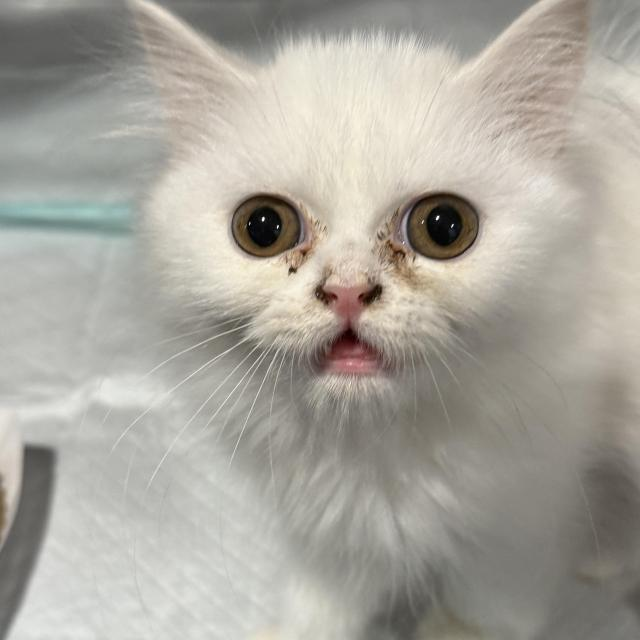persian_cat: (121, 2, 615, 459)
